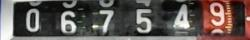digits: (172, 3, 190, 29), (134, 8, 152, 33), (60, 10, 77, 33), (210, 1, 225, 26), (25, 8, 40, 32), (99, 9, 114, 33)
